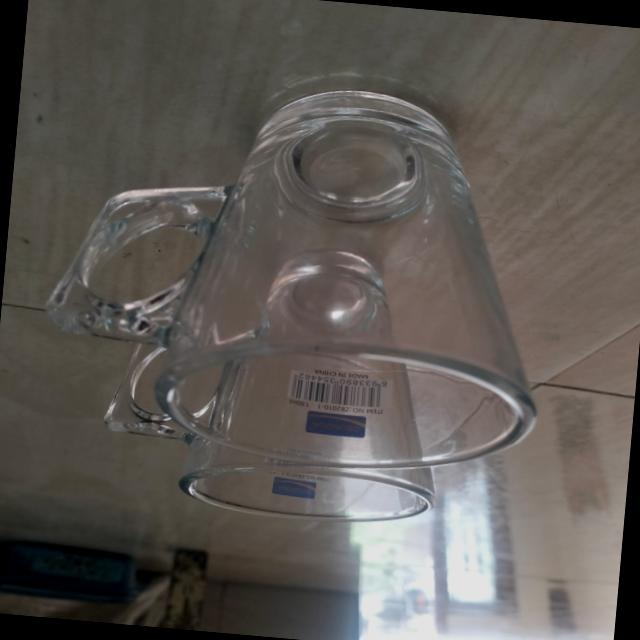glass-VX4N: (34, 58, 570, 488), (97, 228, 470, 532)
